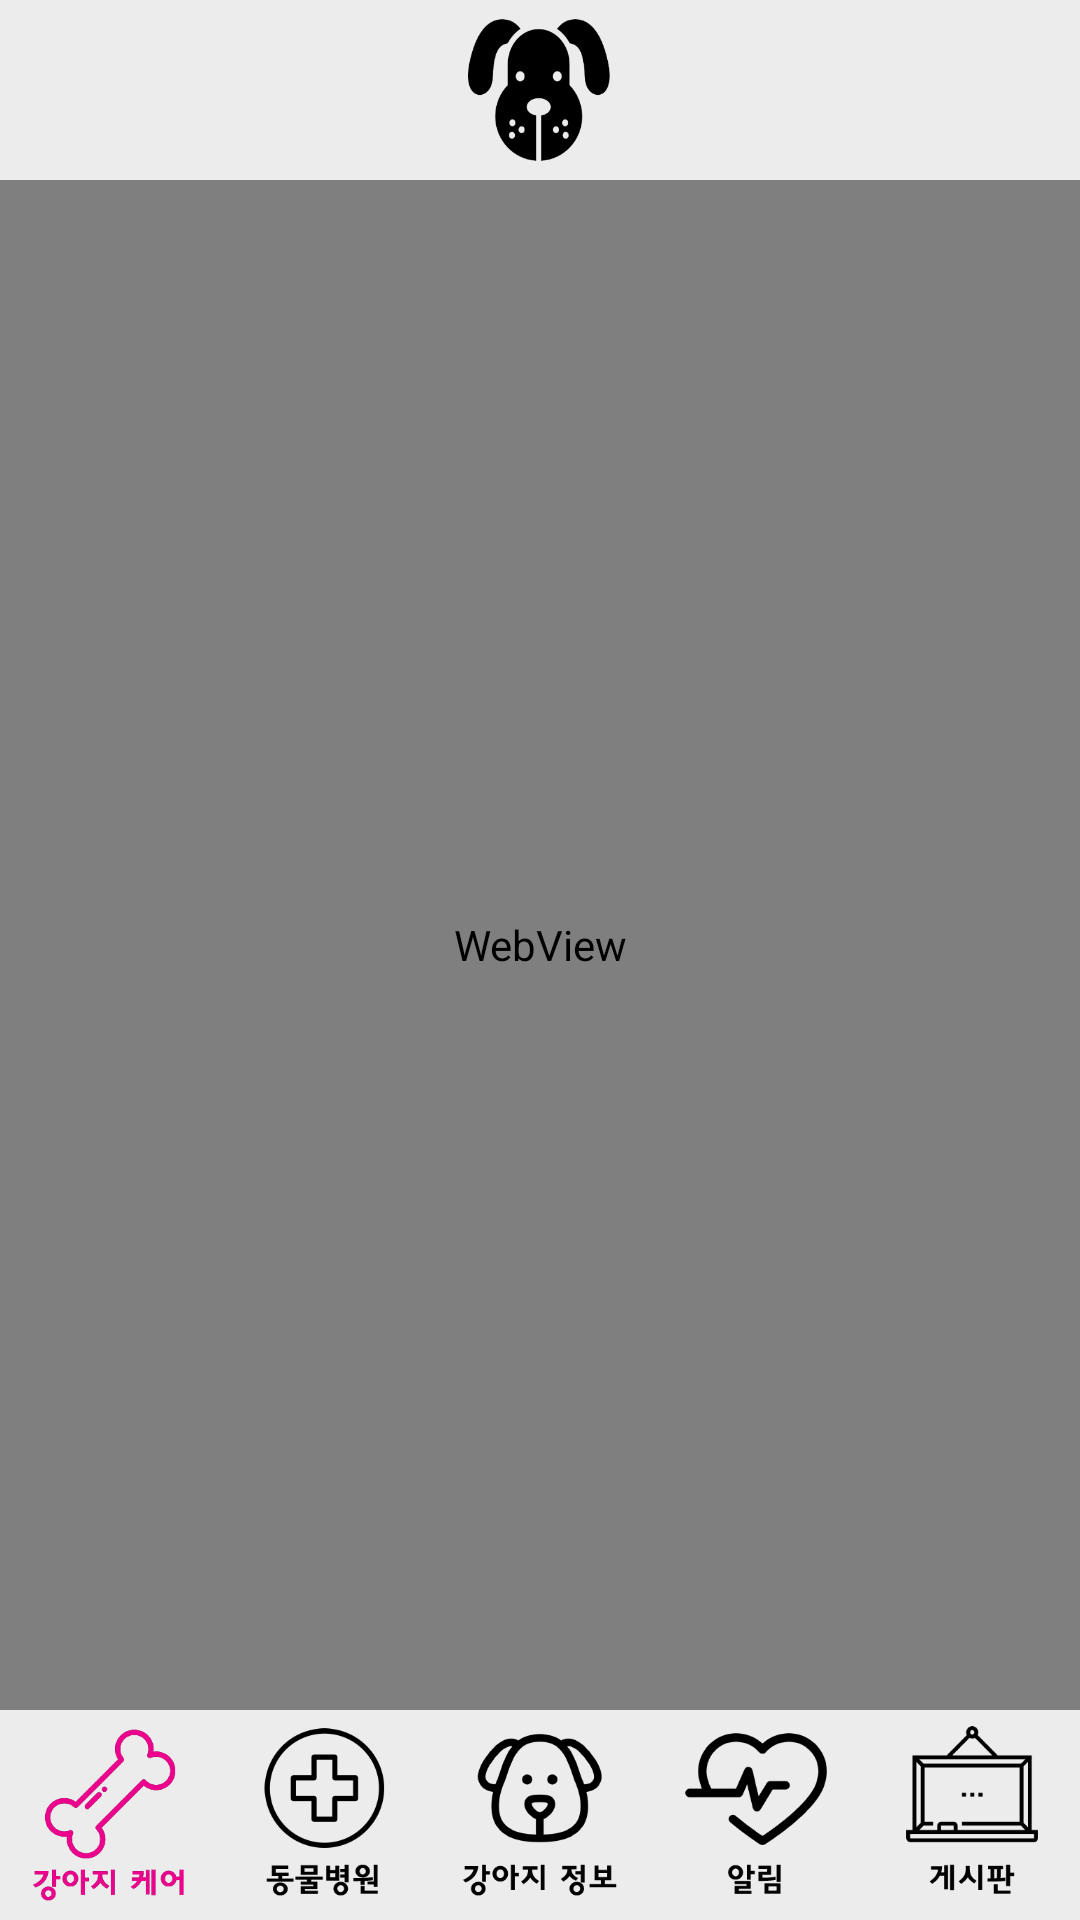

Named icons in this screenshot (1080w x 1920h) and their bounding boxes, (x1, y1, x2, y2):
dogdogface: (468, 19, 610, 161)
